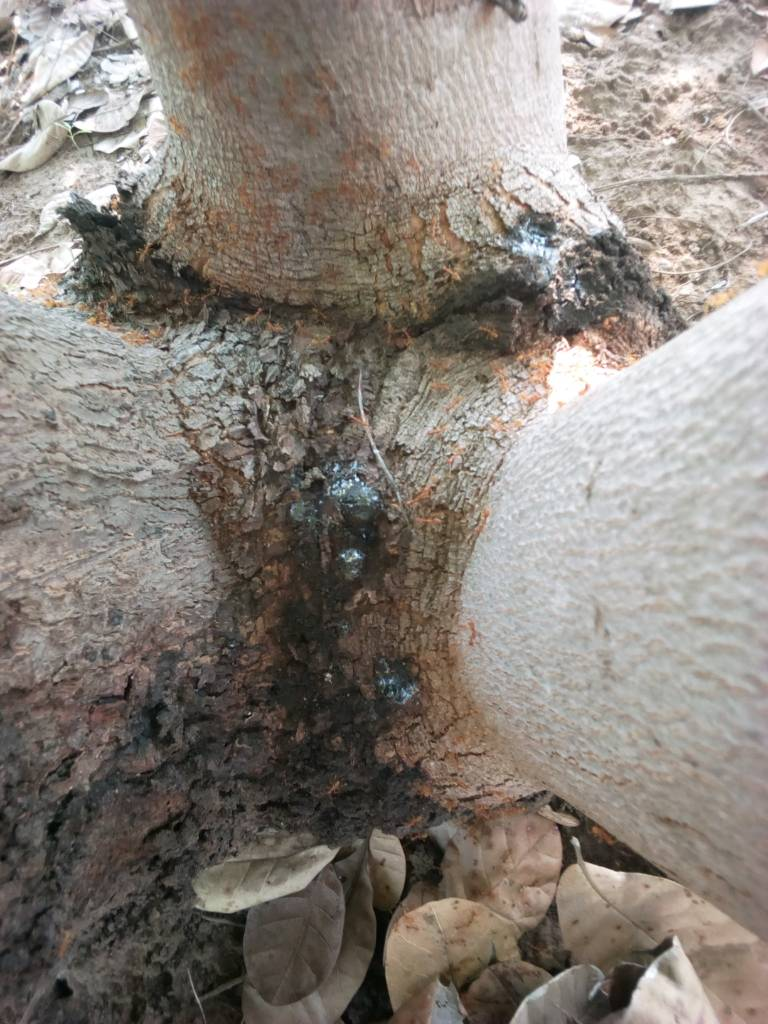Gommose: (216, 460, 430, 833), (485, 217, 647, 325)
